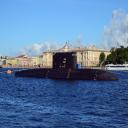submarine: (15, 52, 121, 81)
